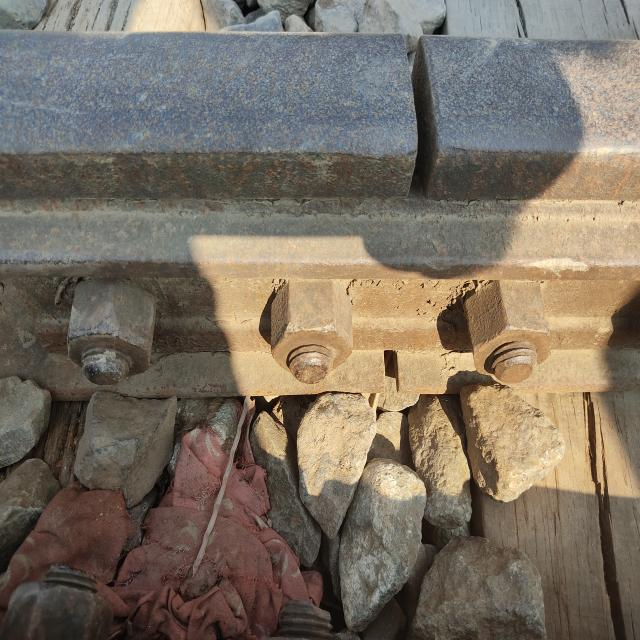Faults: (392, 21, 450, 207)
